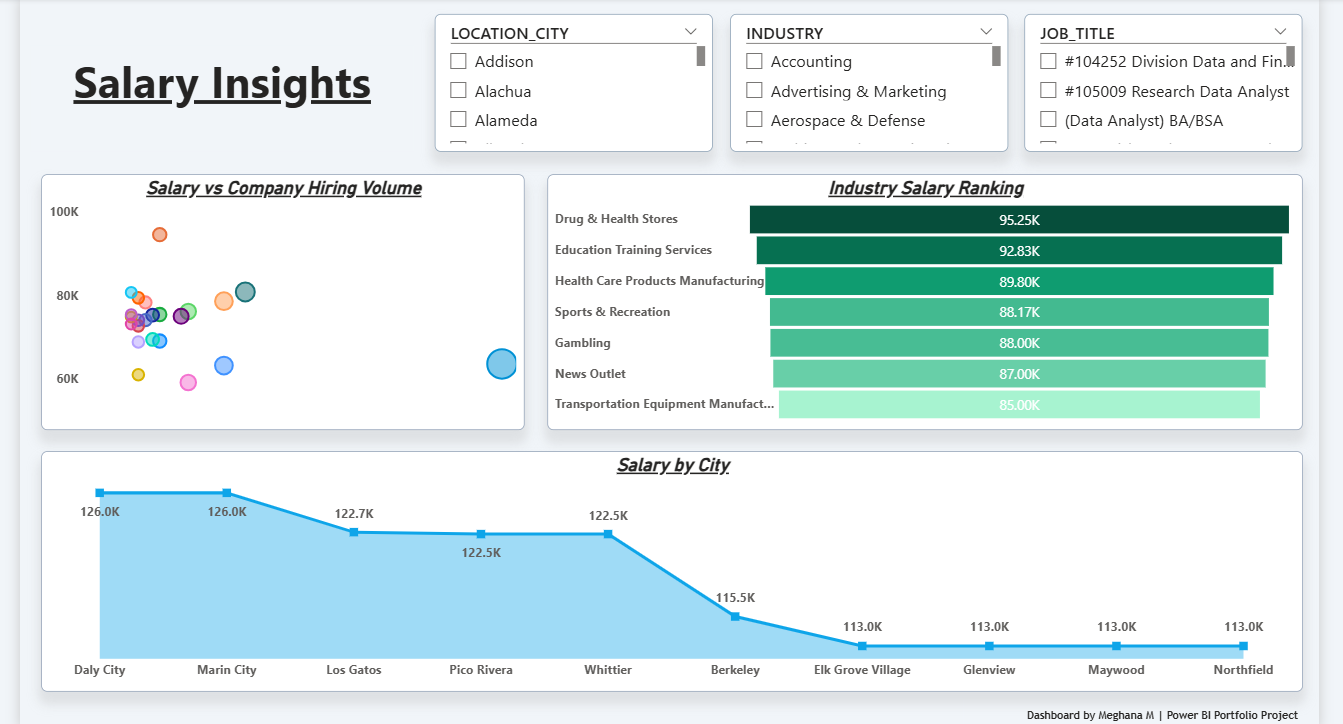

The dashboard page shown, as its layout file describes it:
{"tool":"powerbi","page":{"name":"Salary Insights","canvas":[1280,720],"ordinal":1},"visuals":[{"type":"textbox","box":[10.6,46.8,377.5,104.2],"z":0},{"type":"slicer","fields":{"Values":["DATA_ANALYST_JOBS.LOCATION_CITY"]},"box":[408.6,15.7,274.1,135.8],"z":1000},{"type":"slicer","fields":{"Values":["DATA_ANALYST_JOBS.JOB_TITLE"]},"box":[989.4,15.7,274.1,135.8],"z":2000},{"type":"slicer","fields":{"Values":["DATA_ANALYST_JOBS.INDUSTRY"]},"box":[699,15.7,274.1,135.8],"z":3000},{"type":"funnel","title":"Industry Salary Ranking","fields":{"Y":["Measures Table1.Average Salary"],"Category":["DATA_ANALYST_JOBS.INDUSTRY"]},"box":[519.5,173.6,744,251.9],"z":4000},{"type":"scatterChart","title":"Salary vs Company Hiring Volume","fields":{"X":["Measures Table1.Total Jobs"],"Y":["Measures Table1.Average Salary"],"Category":["DATA_ANALYST_JOBS.COMPANY_NAME_CLEAN"],"Size":["Measures Table1.Total Jobs"],"Series":["DATA_ANALYST_JOBS.COMPANY_NAME_CLEAN"]},"box":[20.9,173.6,476.4,251.9],"z":5000},{"type":"textbox","box":[929.2,690.8,334.6,29.2],"z":6000},{"type":"lineChart","title":"Salary by City","fields":{"Category":["DATA_ANALYST_JOBS.LOCATION_CITY"],"Y":["Measures Table1.Average Salary"]},"box":[21,447,1243,237],"z":7000}]}

Visuals, with their boxes on the page's 1280x720 design canvas (x1, y1, x2, y2). These are canvas units, not pixel positions in the 1343x724 screenshot, which may show the page scaled, cropped or inside an application window:
textbox: (11,47,388,151)
slicer - DATA_ANALYST_JOBS.LOCATION_CITY: (409,16,683,152)
slicer - DATA_ANALYST_JOBS.JOB_TITLE: (989,16,1264,152)
slicer - DATA_ANALYST_JOBS.INDUSTRY: (699,16,973,152)
"Industry Salary Ranking" funnel: (520,174,1264,426)
"Salary vs Company Hiring Volume" scatterChart: (21,174,497,426)
textbox: (929,691,1264,720)
"Salary by City" lineChart: (21,447,1264,684)
